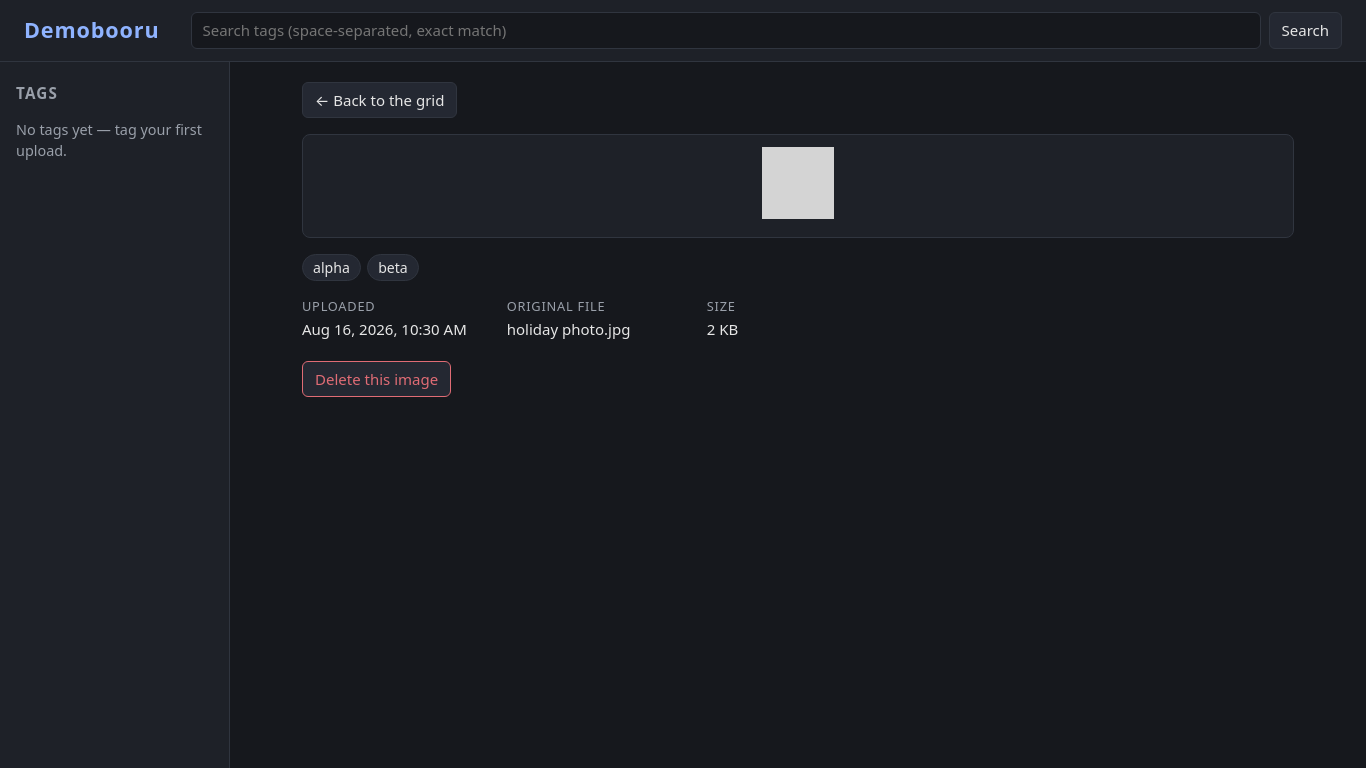
Test: detail view › clicking a tag searches for it from the detail view
The image size is (1366, 768).
Click the button "beta": (393, 267) [367,254,419,281]
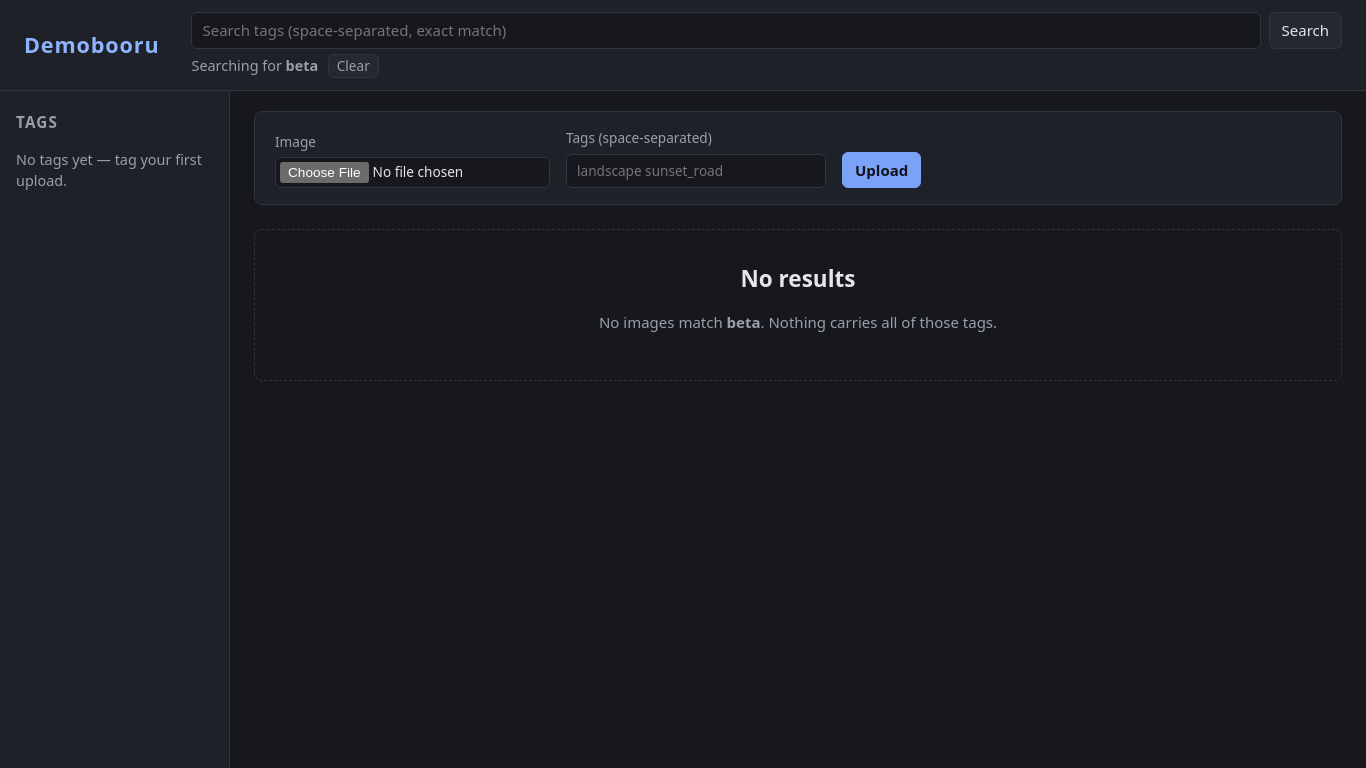
Now the text "Searching for beta Clear" is shown, box [192,54,379,78]
